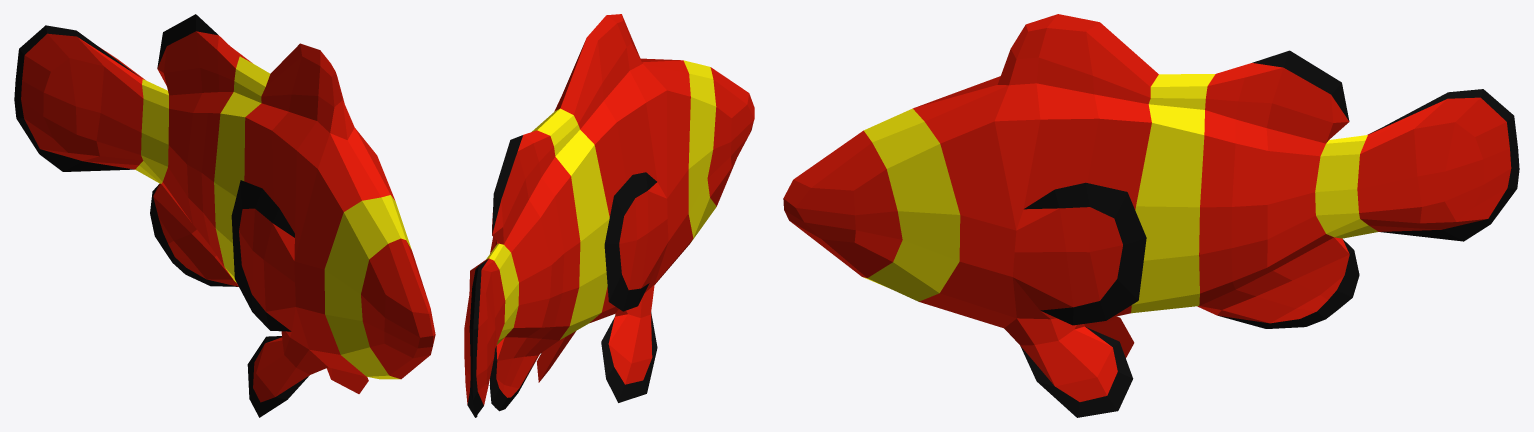
File: fish.obj
The picture shows the model from 3 angles, left to right: view 1: azimuth 30°, elevation 25°; view 2: azimuth 150°, elevation 25°; view 3: azimuth 270°, elevation 25°; orthographic projection. The views are drawn at different scales.
Visible parts, largest first — view 1: ClownFish_ClownFishMesh; view 2: ClownFish_ClownFishMesh; view 3: ClownFish_ClownFishMesh.
Boxes of the visible parts, bbox=[...] form: ClownFish_ClownFishMesh: bbox=[14, 14, 435, 417]; ClownFish_ClownFishMesh: bbox=[464, 14, 754, 417]; ClownFish_ClownFishMesh: bbox=[783, 14, 1519, 417].
Size of the model in its own units: 0.1355 by 0.3372 by 0.5928.
